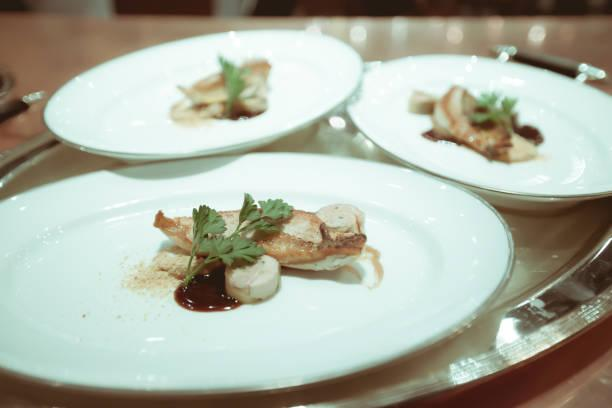Braised Crucian Carp: (7, 150, 519, 391), (41, 25, 365, 160), (362, 51, 612, 208)
